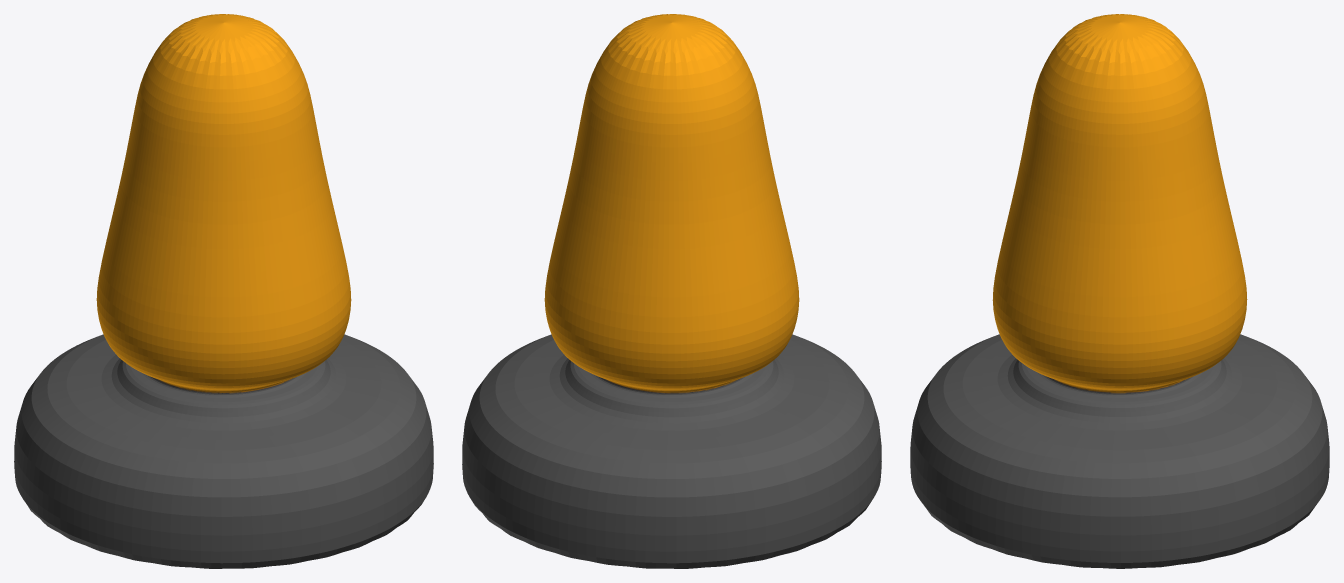
File: sten_lamp.fbx
3 views of the same model, side by side, from view 1: azimuth 30°, elevation 25°; view 2: azimuth 150°, elevation 25°; view 3: azimuth 270°, elevation 25° (orthographic).
Parts seen in each view (by area): view 1: sten_lamp_Baked; view 2: sten_lamp_Baked; view 3: sten_lamp_Baked.
Boxes of the visible parts, x1,y1,x2,y2 form: sten_lamp_Baked: [14, 14, 433, 568]; sten_lamp_Baked: [462, 14, 881, 568]; sten_lamp_Baked: [910, 14, 1329, 568].
Bounding box in the file's own units: 9.94 × 12.32 × 9.94.
